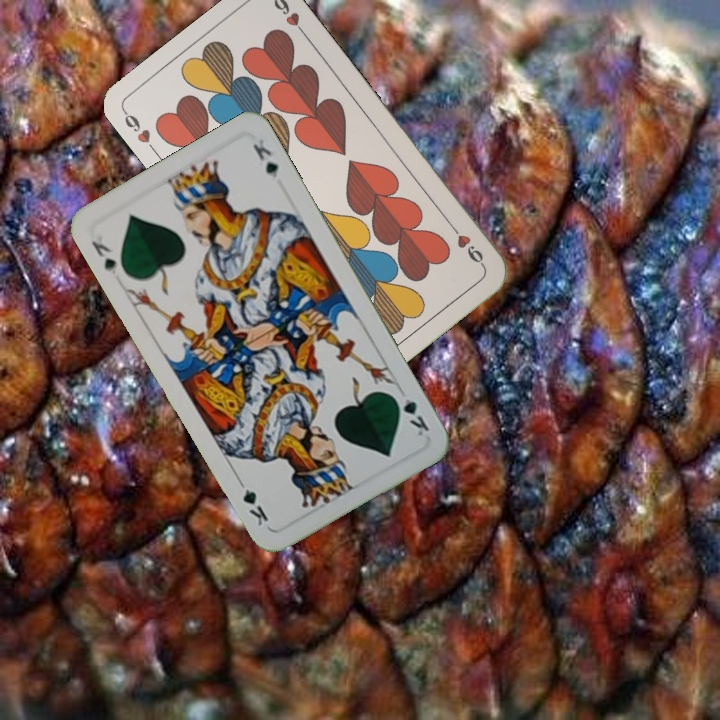GK: (388, 390, 432, 439), (87, 236, 119, 278)
H9: (445, 220, 487, 270), (120, 106, 161, 157)
